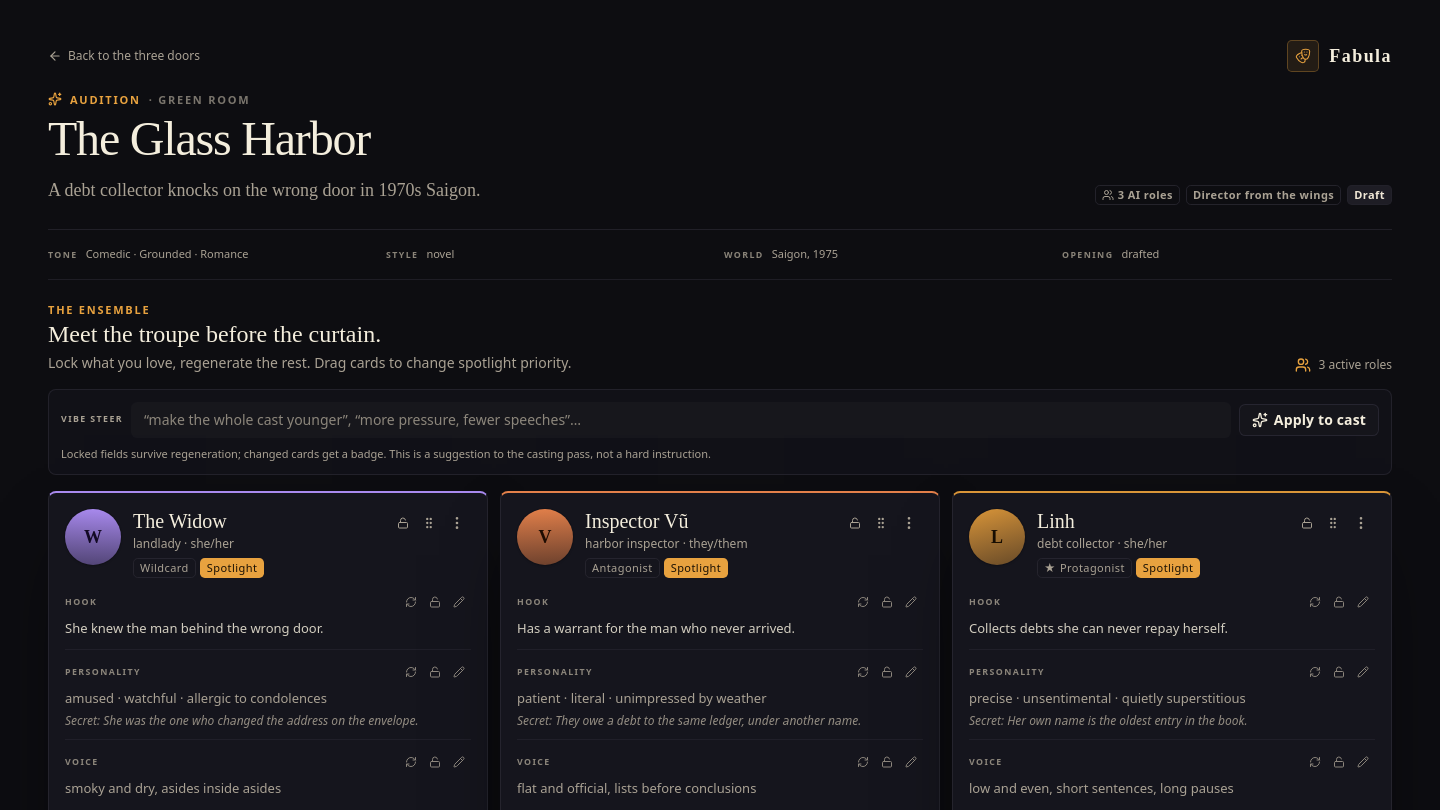
it: audition grid › inline field edit persists through the shared role editor
Click the button named "Edit Hook for The Widow" at point(459, 602), box x1=447 y1=590 x2=471 y2=614
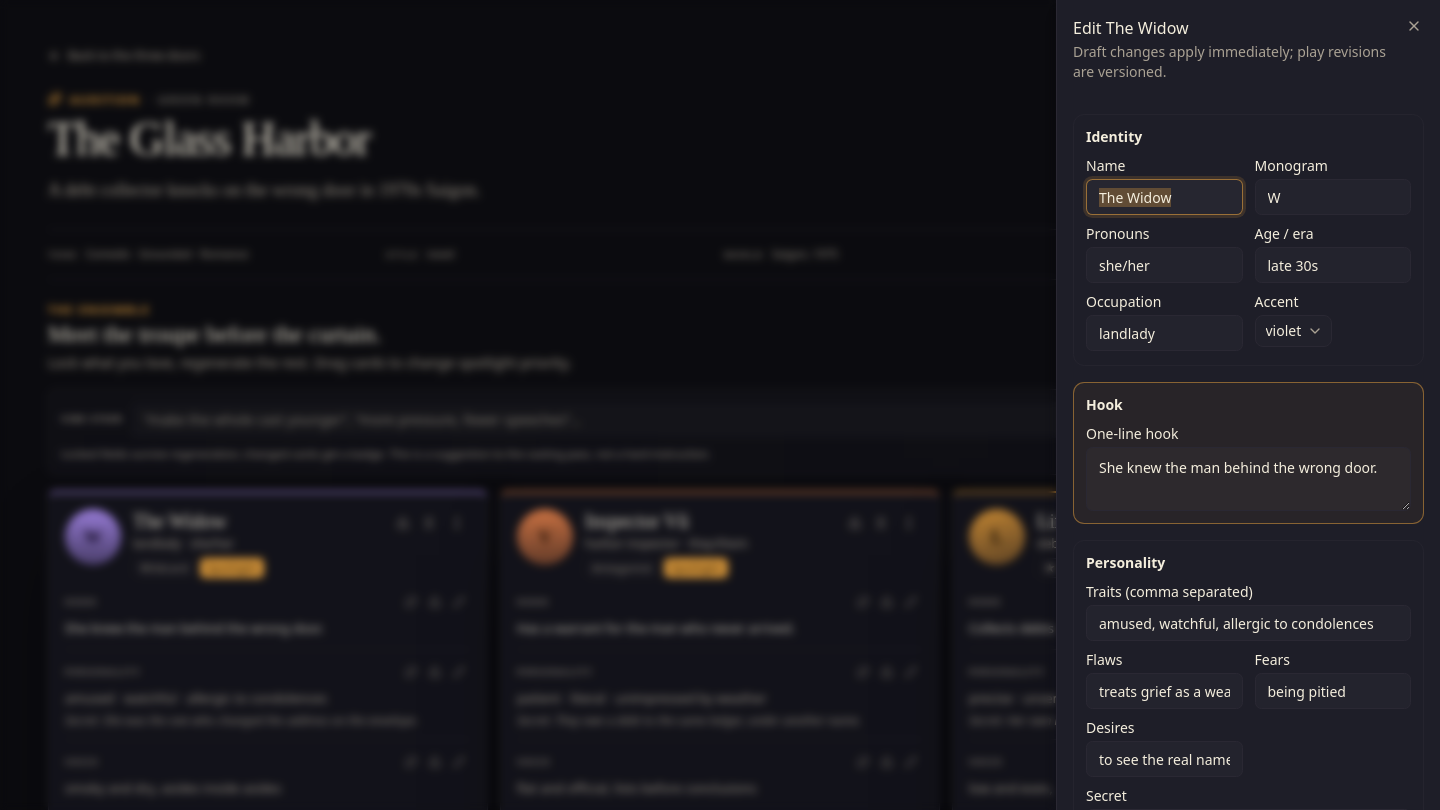
Replace the text in the text box labelled "One-line hook" with "A hook rewritten by the director." at point(1248, 479), box x1=1086 y1=447 x2=1411 y2=511
(page scrolled)
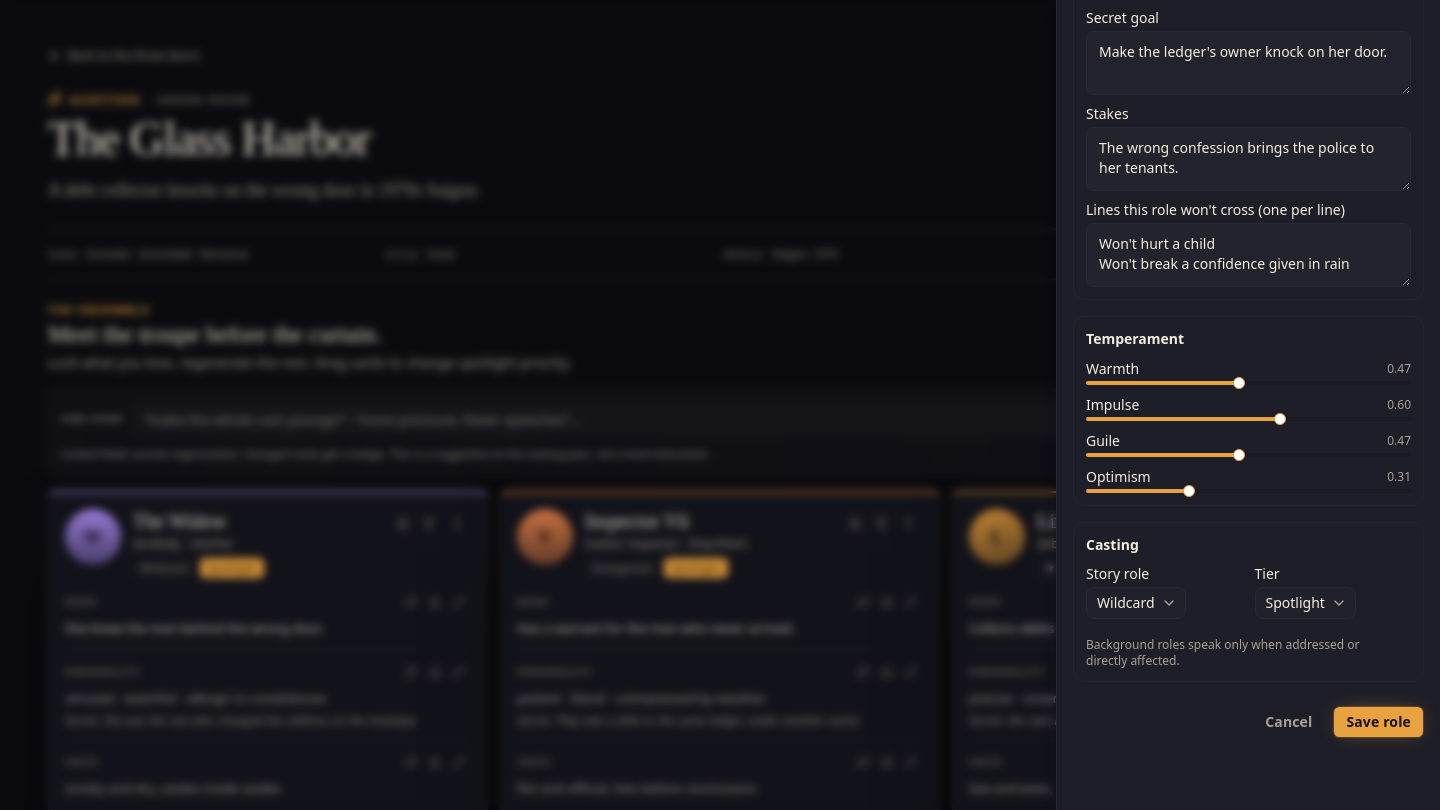
Click the button "Save role" at point(1379, 722), box x1=1333 y1=706 x2=1424 y2=738
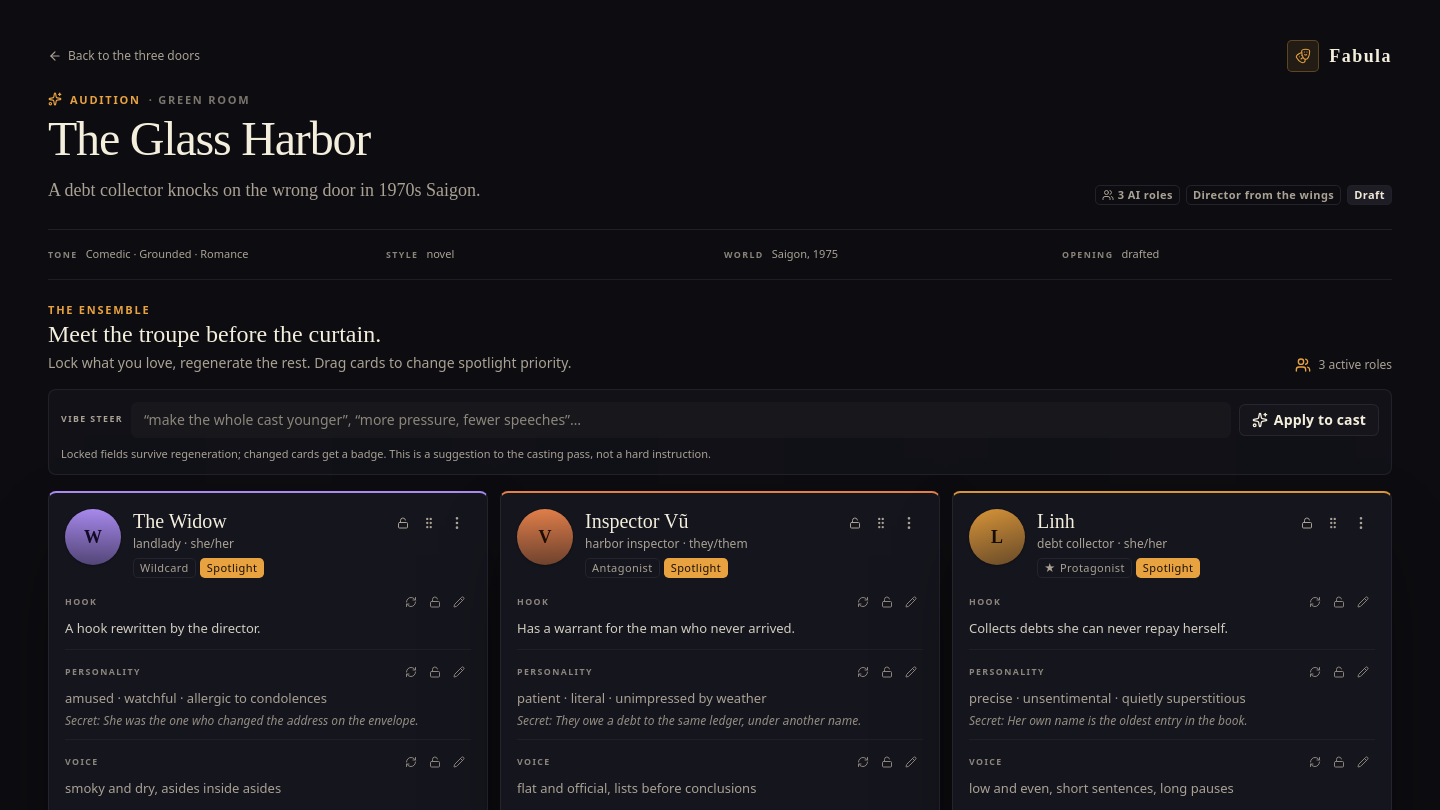
Expected: the text "A hook rewritten by the director." is shown, x1=65 y1=619 x2=261 y2=637
